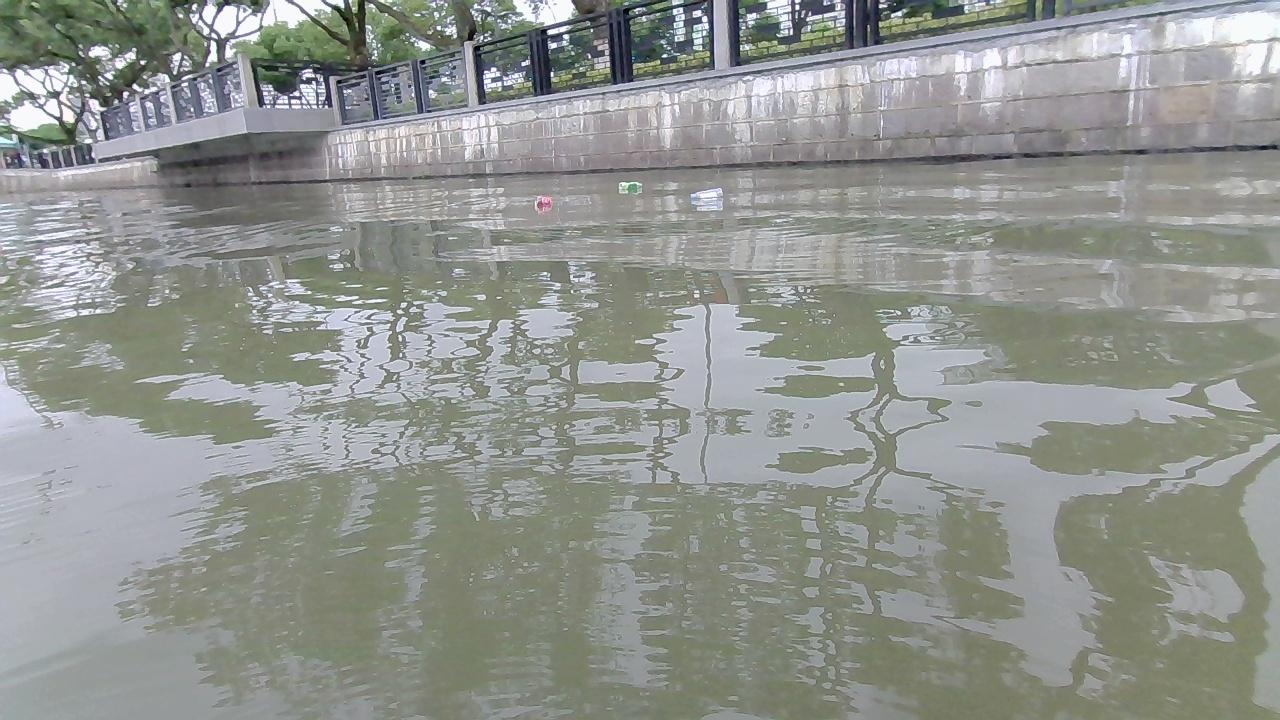bottle: (688, 186, 727, 205), (613, 177, 640, 189), (533, 195, 553, 206)
